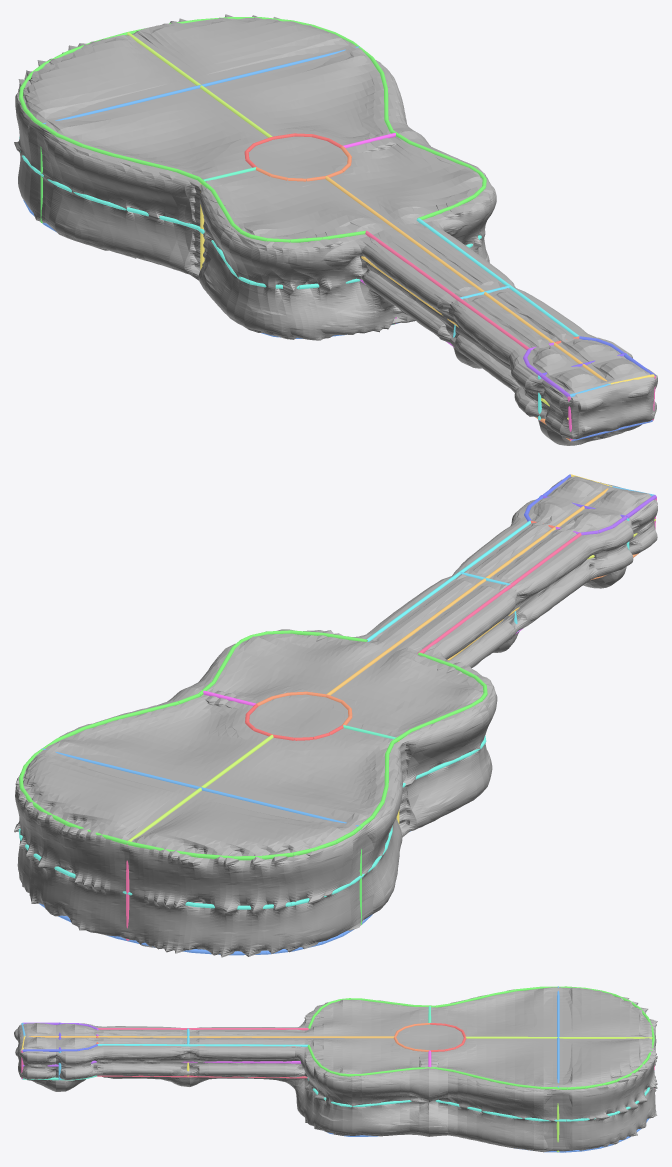
File: t2f_guitar.gltf
The picture shows the model from 3 angles, top to bottom: view 1: azimuth 30°, elevation 25°; view 2: azimuth 150°, elevation 25°; view 3: azimuth 270°, elevation 25°; orthographic projection. The views are drawn at different scales.
Size of the model in its own units: 0.3666 by 0.1224 by 0.9489.
